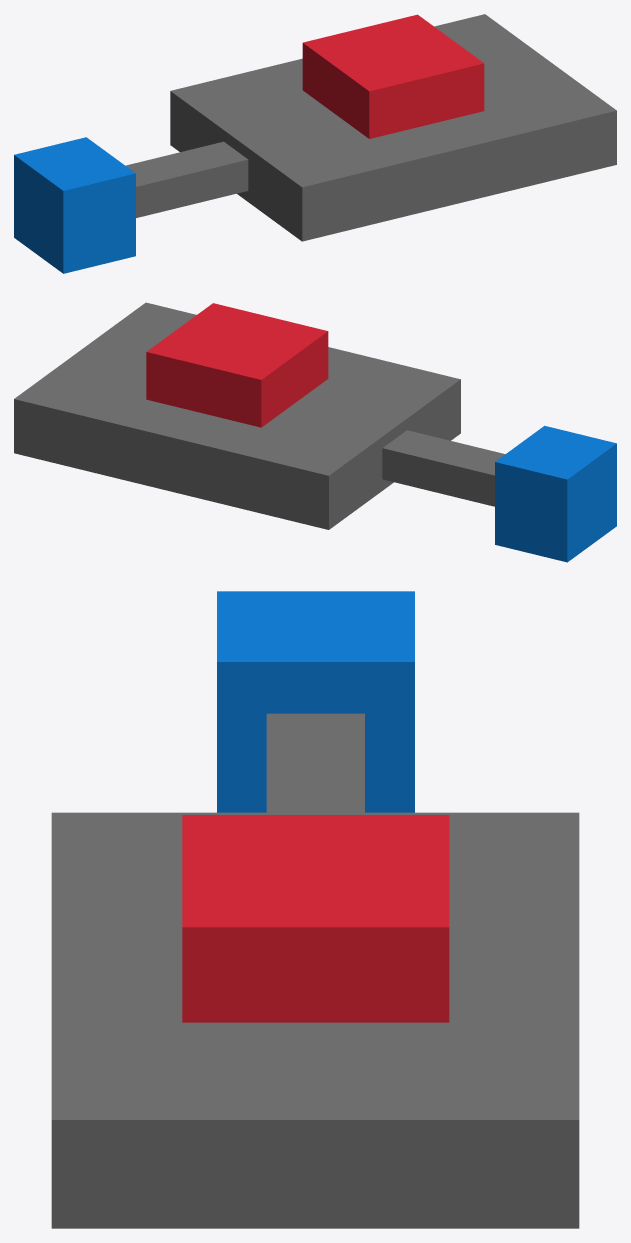
Rendered from gizmo.fbx.
The picture shows the model from 3 angles, top to bottom: view 1: azimuth 30°, elevation 25°; view 2: azimuth 150°, elevation 25°; view 3: azimuth 270°, elevation 25°; orthographic projection. The views are drawn at different scales.
Parts seen in each view (by area): view 1: Cube; view 2: Cube; view 3: Cube.
Boxes of the visible parts, x1=… form: Cube: x1=14, y1=14, x2=616, y2=273; Cube: x1=14, y1=302, x2=616, y2=562; Cube: x1=51, y1=591, x2=579, y2=1228.
Bounding box in the file's own units: 448 × 97.24 × 200.
